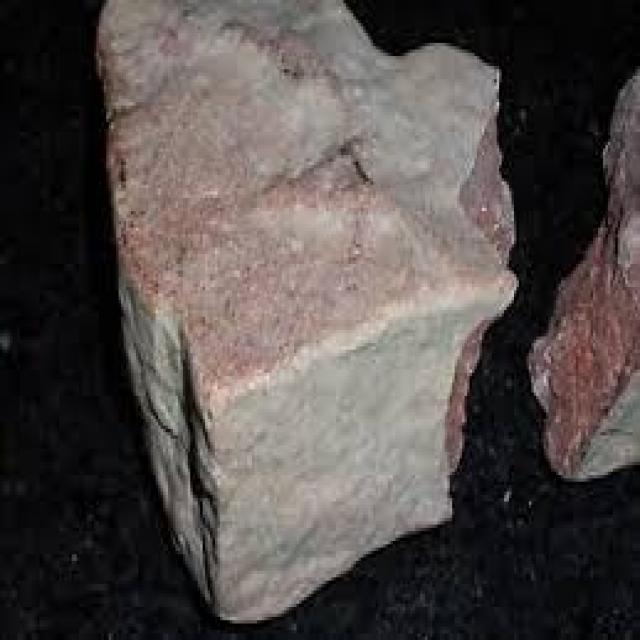Metamorphic: (101, 3, 492, 610)
